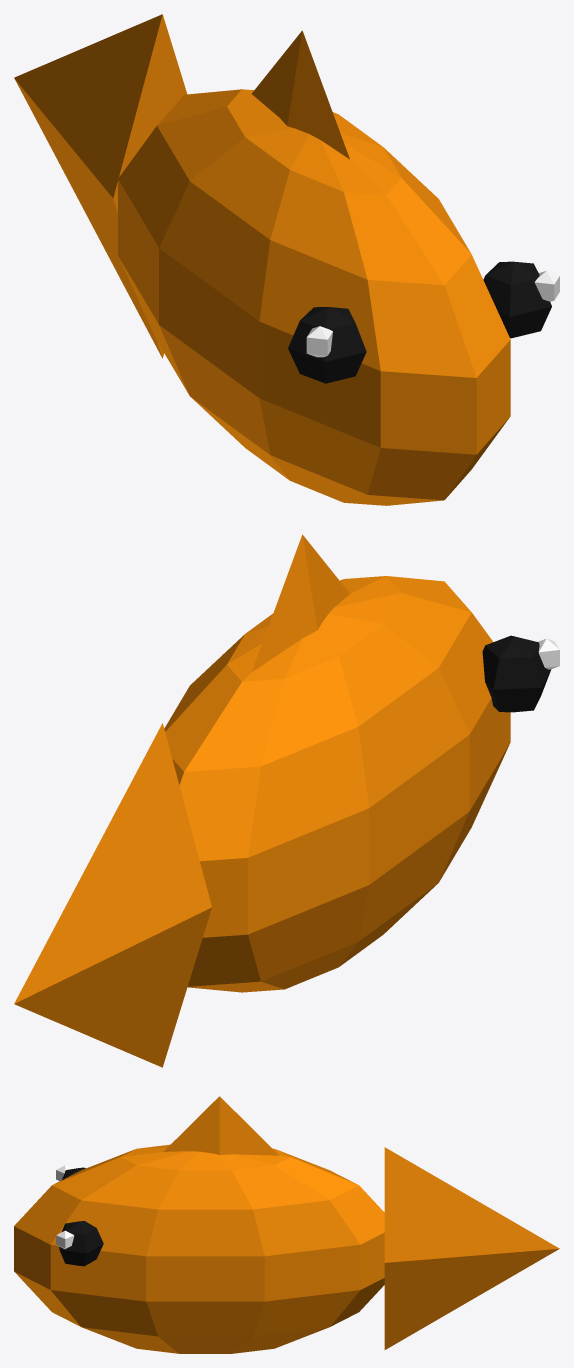
Rendered from fisch.glb.
The picture shows the model from 3 angles, top to bottom: view 1: azimuth 30°, elevation 25°; view 2: azimuth 150°, elevation 25°; view 3: azimuth 270°, elevation 25°; orthographic projection. The views are drawn at different scales.
Visible parts, largest first — view 1: fisch.001; view 2: fisch.001; view 3: fisch.001.
Boxes of the visible parts, x1,y1,x2,y2 form: fisch.001: (14,14,559,505); fisch.001: (14,534,559,1067); fisch.001: (14,1096,559,1353).
Size of the model in its own units: 0.2466 by 0.4 by 0.778.
